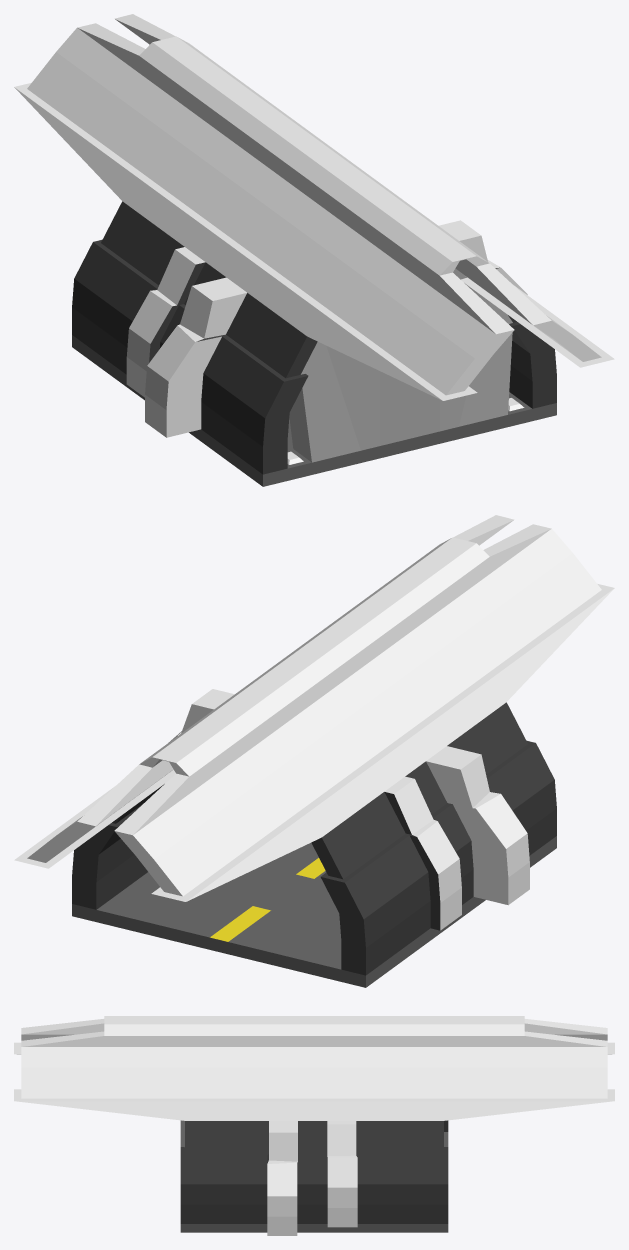
Rendered from menuhouse.fbx.
3 renders of one model, top to bottom at view 1: azimuth 30°, elevation 25°; view 2: azimuth 150°, elevation 25°; view 3: azimuth 270°, elevation 25°, orthographic. The views are drawn at different scales.
Parts seen in each view (by area): view 1: Cube; view 2: Cube; view 3: Cube.
Part boxes in pixels (x1=…): Cube: x1=14, y1=14, x2=614, y2=486; Cube: x1=14, y1=515, x2=614, y2=987; Cube: x1=14, y1=1016, x2=614, y2=1235.
Bounding box in the file's own units: 61.65 × 126 × 37.61.
